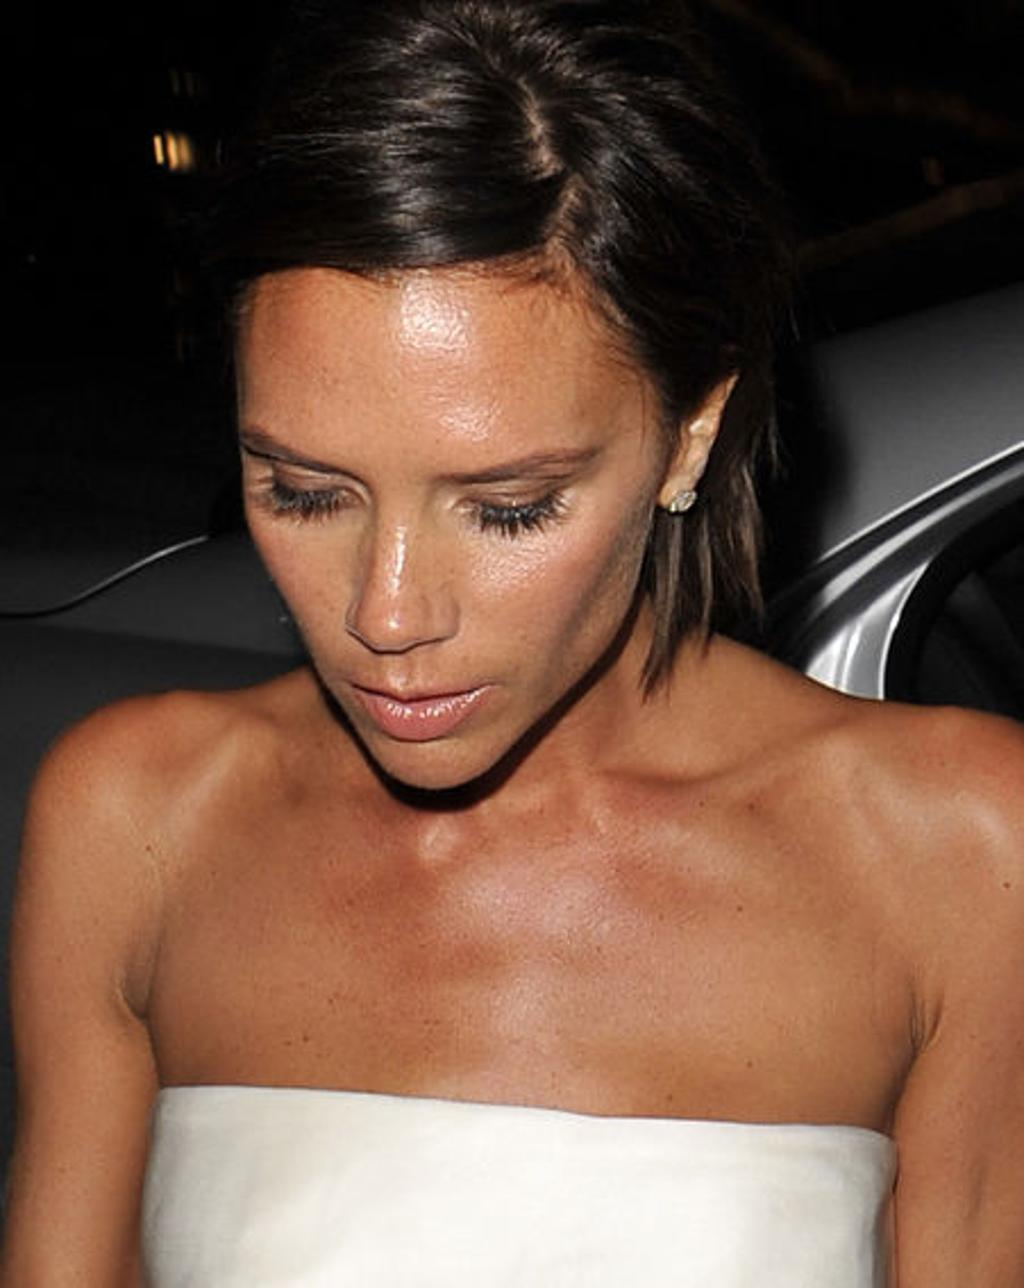face: (239, 254, 662, 790)
